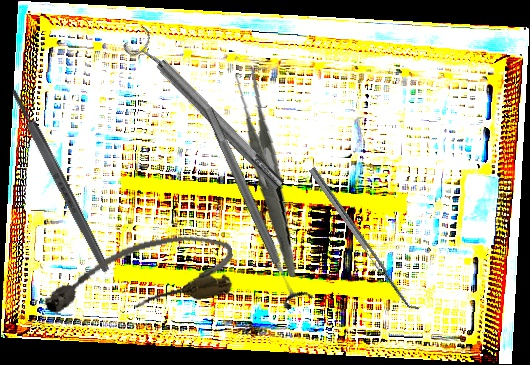Cannula: (37, 226, 240, 327)
Dressing Forceps: (218, 66, 313, 277)
Fixation Ring: (120, 23, 292, 199), (193, 101, 315, 312)
Scalpel Handle: (8, 86, 112, 275)
Spatula Surgical: (308, 162, 422, 316)
